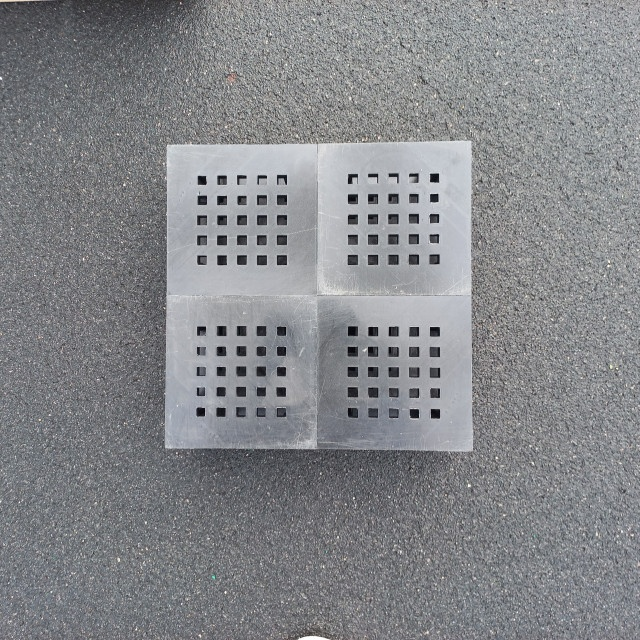pallet: (164, 140, 476, 456)
